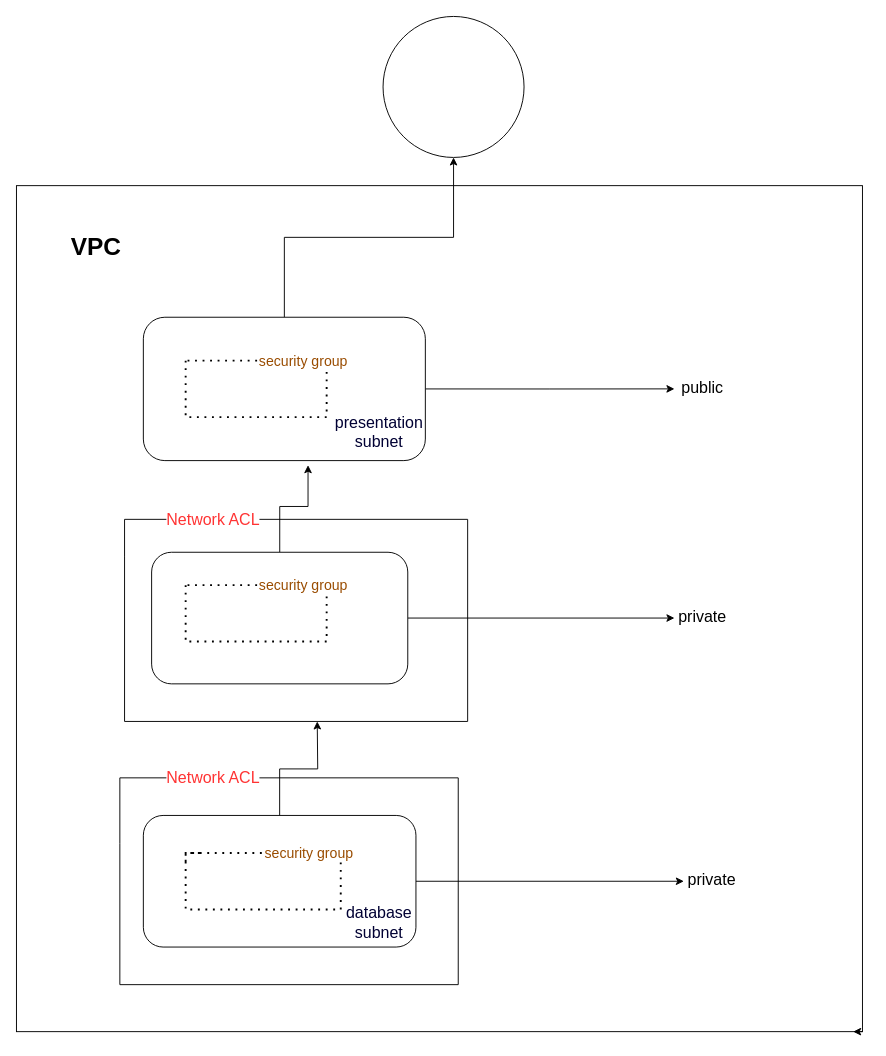
The diagram is 886 pixels wide and 1056 high, and some of its shapes have lost their labels. Each missing label, with the centre of its shape:
application subnet: pixel 279 617
IGW: pixel 453 86
